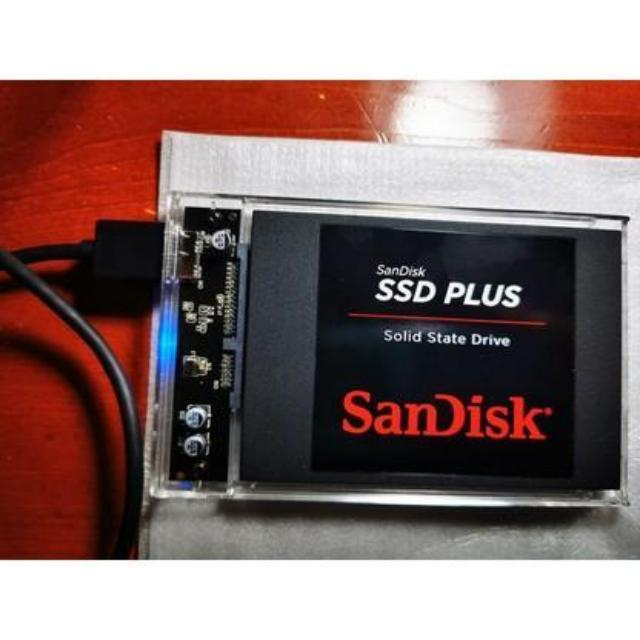DISK: (230, 206, 632, 503)
